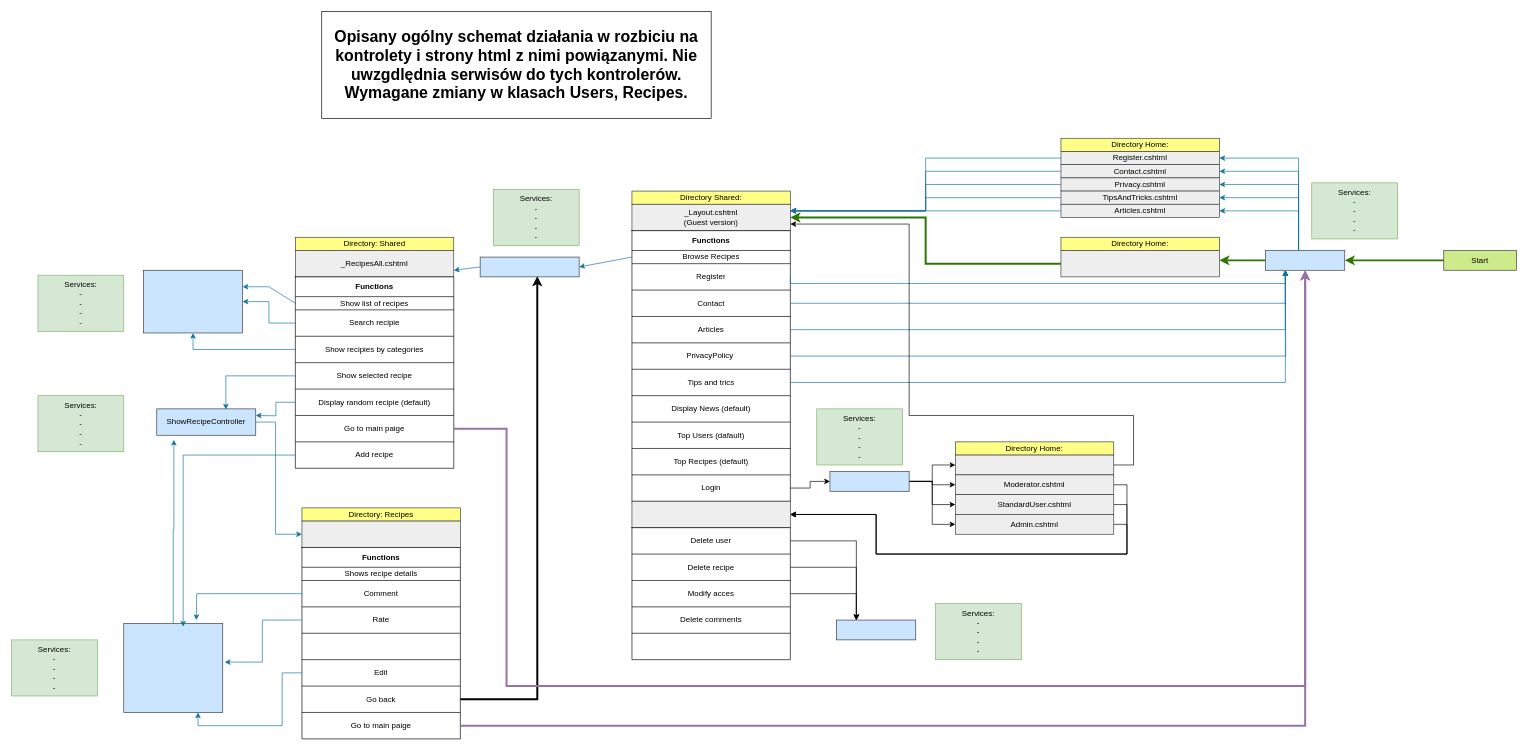
Some shapes in this 1528 by 750 pixel diagram are drawn without their labels. Here are the shapes that lost their labels. From the top down, the centre of each, then its label:
At [529,266]: "RecipesController".
At [1139,263]: "Index.cshtml".
At [1305,260]: "HomeController".
At [193,301]: "SearchRecipeController".
At [869,481]: "LoginController".
At [1034,464]: "Error.cshtml".
At [380,533]: "Recipe.cshtml".
At [710,514]: "_Layout.cshtml (Admin/moderator/standardUsert)".
At [876,629]: "ManagerController".
At [173,667]: "ModifyRecipeController".
